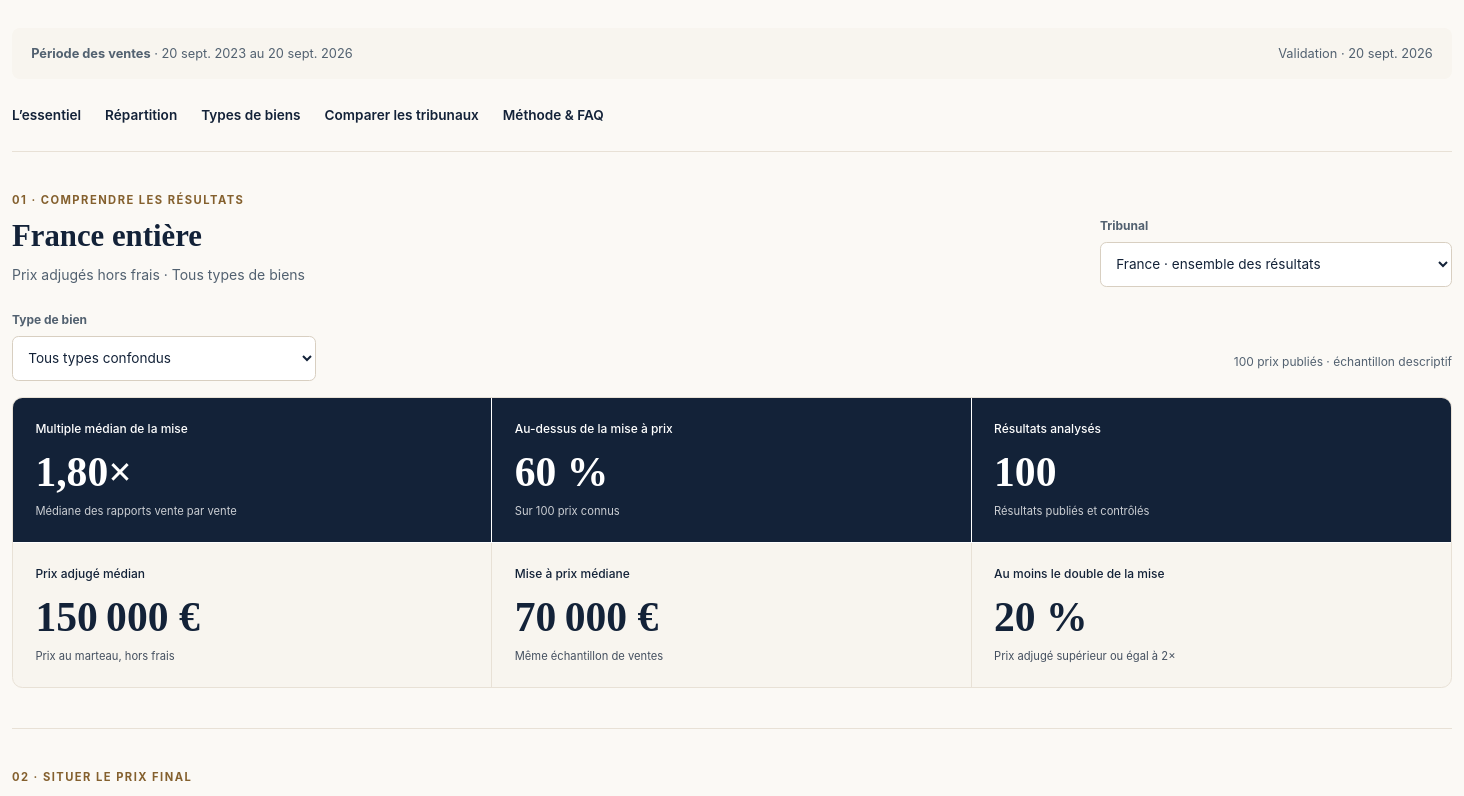
Test: AdjudicationBarometer › affiche les vraies médianes de type quand une nouvelle publication les fournit
Step 1. Select "Maison · 20 prix" in the dropdown labelled "Type de bien" → (164, 358), box x1=12 y1=336 x2=316 y2=381
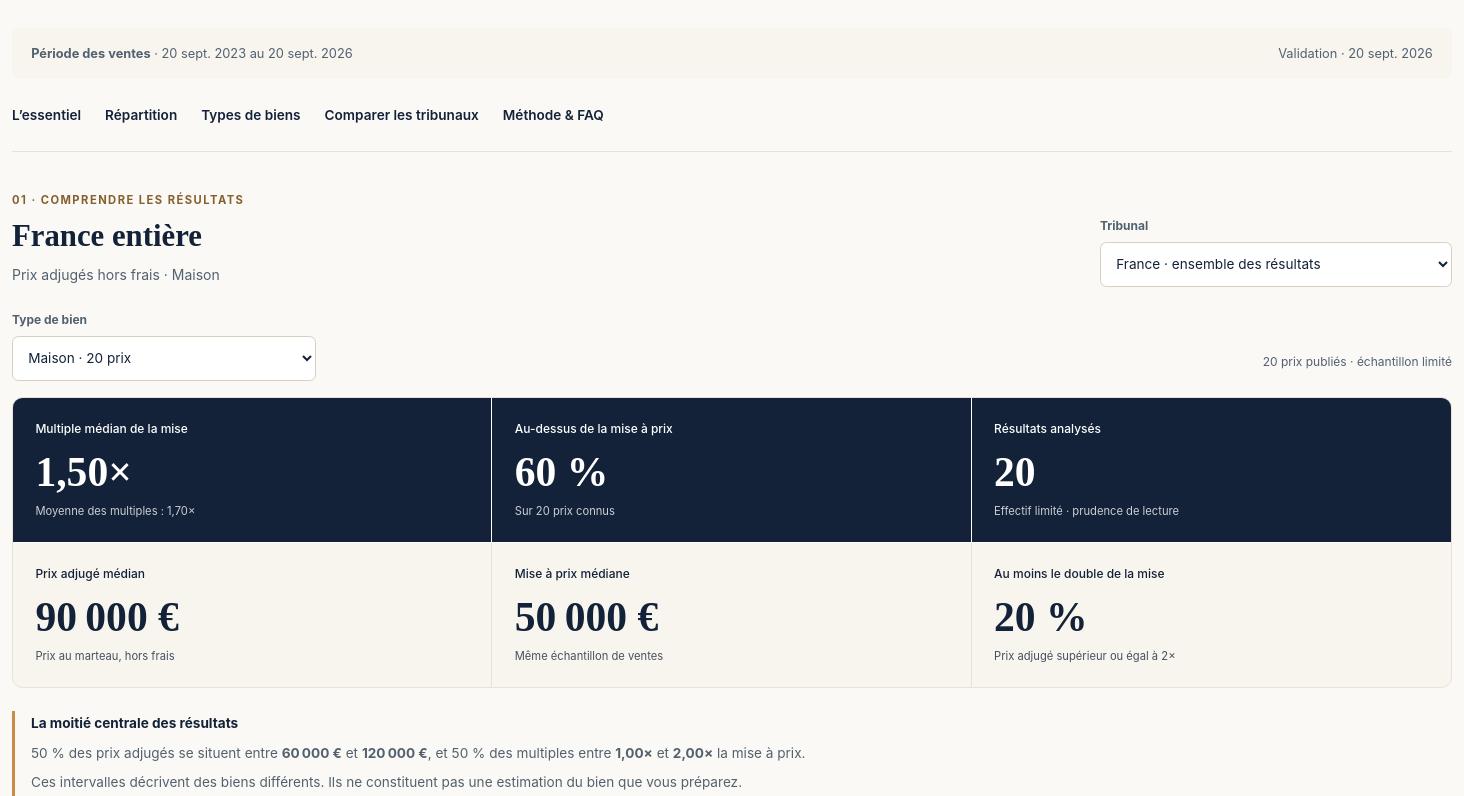
Expected: the text "90 000 €" is shown, x1=35 y1=594 x2=179 y2=640
Expected: the text "1,50×" is shown, x1=35 y1=448 x2=132 y2=494
Expected: the text "Moyenne des multiples : 1,70×" is shown, x1=35 y1=504 x2=195 y2=518
